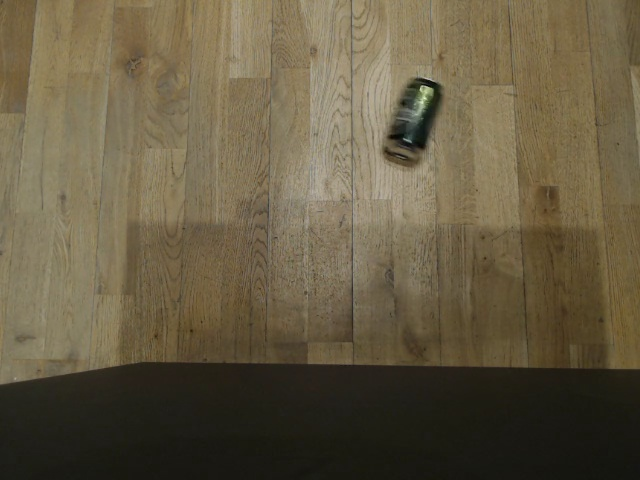beer: (380, 75, 442, 165)
